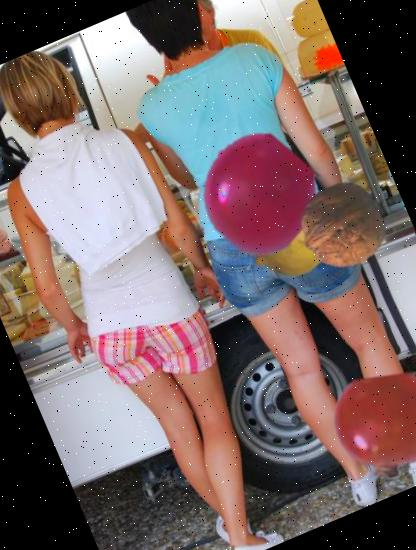Lemon: (230, 170, 356, 296)
Redcurrant: (182, 118, 334, 270), (317, 356, 416, 495)
Walnut: (286, 169, 399, 282)
